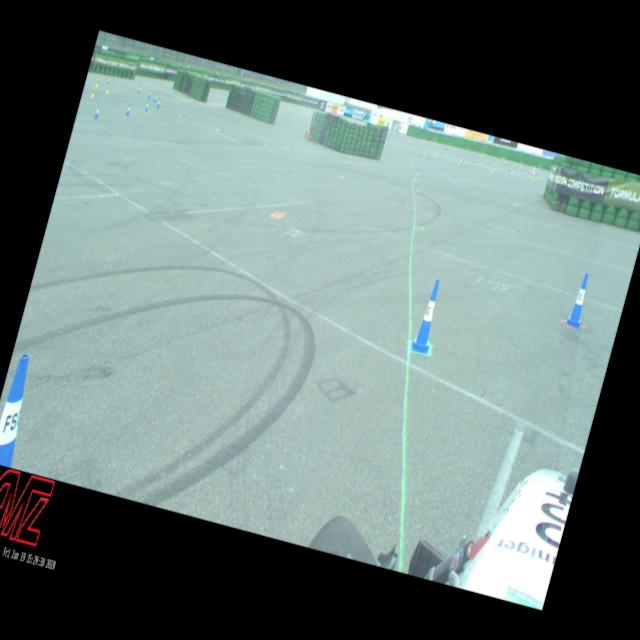blue_cone: (0, 351, 38, 465), (409, 278, 447, 356), (566, 272, 592, 328), (94, 105, 100, 118), (126, 104, 130, 115), (156, 97, 160, 107), (152, 94, 156, 103), (144, 101, 148, 110), (106, 76, 110, 85), (137, 86, 141, 94), (148, 90, 152, 98), (544, 172, 547, 179), (492, 162, 495, 168), (508, 166, 510, 172), (462, 155, 464, 161), (463, 150, 466, 154), (528, 168, 530, 174), (408, 139, 410, 145), (506, 160, 508, 166), (521, 166, 523, 171), (494, 157, 496, 162), (440, 150, 442, 154), (417, 140, 419, 144), (477, 154, 479, 158), (445, 146, 447, 150), (535, 170, 537, 174), (434, 142, 436, 146), (514, 164, 516, 168)
orange_cone: (432, 154, 434, 159)
yellow_cone: (104, 84, 110, 94), (90, 87, 95, 98), (95, 77, 99, 86), (494, 162, 498, 170), (528, 170, 532, 178), (422, 151, 426, 158), (540, 168, 543, 176), (282, 106, 286, 112), (511, 166, 514, 173), (491, 165, 494, 172), (457, 158, 460, 165), (435, 149, 438, 155), (459, 156, 462, 162), (395, 142, 398, 148), (478, 160, 481, 165), (532, 173, 534, 180), (520, 162, 522, 168), (504, 158, 506, 163), (408, 142, 410, 146), (423, 139, 425, 143), (452, 146, 454, 150), (411, 134, 413, 138), (482, 153, 484, 157), (401, 132, 402, 135), (408, 134, 409, 136)
